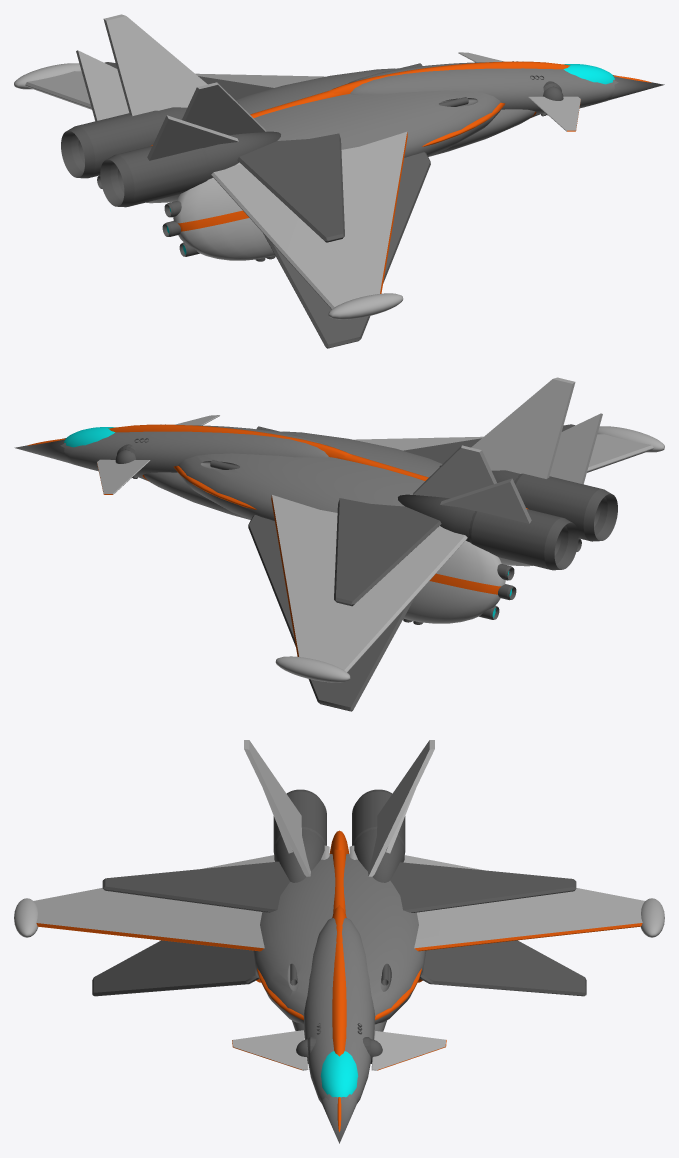
File: anacondaShip.fbx
The picture shows the model from 3 angles, top to bottom: view 1: azimuth 30°, elevation 25°; view 2: azimuth 150°, elevation 25°; view 3: azimuth 270°, elevation 25°; orthographic projection.
Parts seen in each view (by area): view 1: group13; view 2: group13; view 3: group13.
Boxes of the visible parts, x1,y1,x2,y2 form: group13: (14, 14, 664, 348); group13: (14, 377, 664, 711); group13: (14, 740, 664, 1143).
Bounding box in the file's own units: 25.21 × 9.16 × 25.
